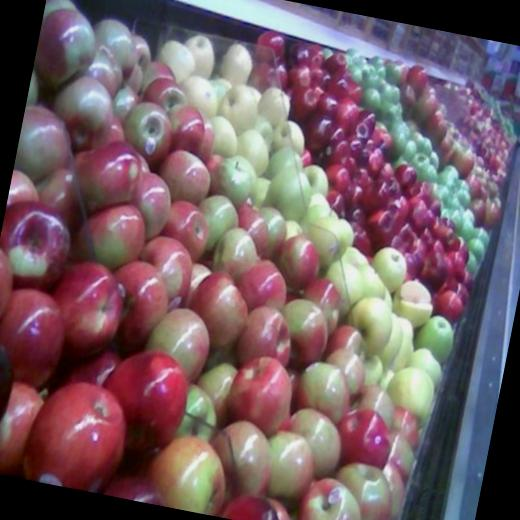Apple: (0, 0, 520, 520), (82, 198, 144, 274)
